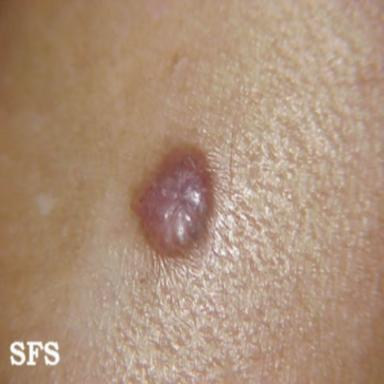basal-cell-carcinoma: (131, 143, 214, 257)
